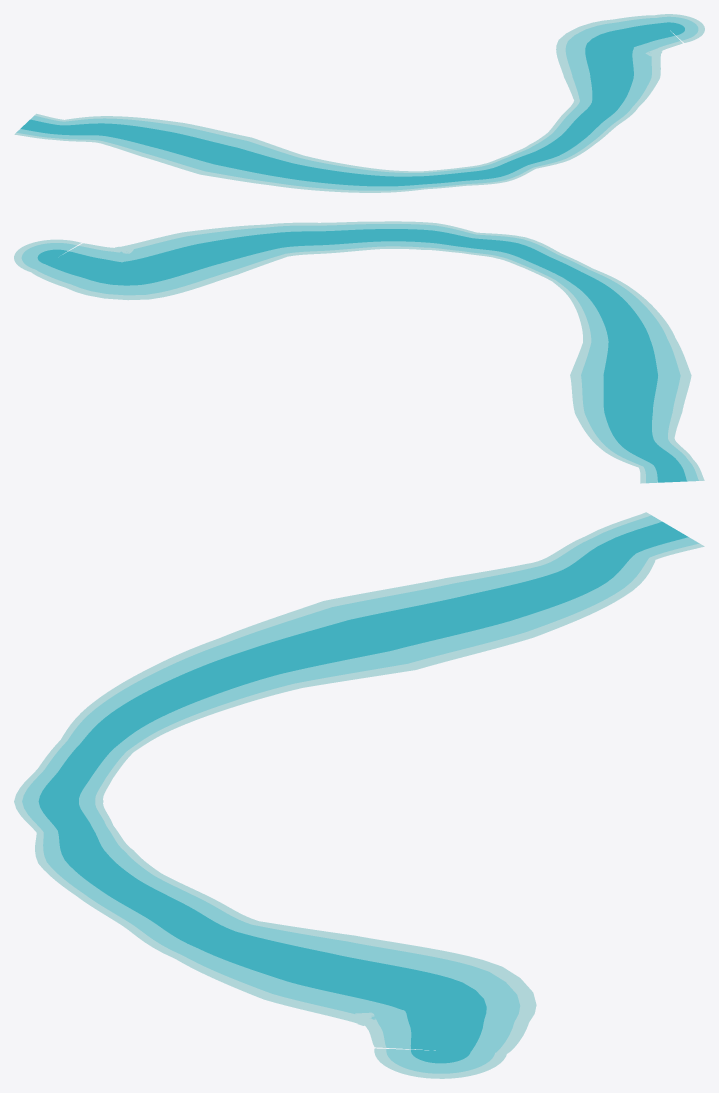
Rendered from RingWater.glb.
3 views of the same model, one above another, from view 1: azimuth 30°, elevation 25°; view 2: azimuth 150°, elevation 25°; view 3: azimuth 270°, elevation 25° (orthographic). The views are drawn at different scales.
Parts seen in each view (by area): view 1: RingWater__Water_Mid, RingWater__Water_Light, RingWater__Water_Edge; view 2: RingWater__Water_Mid, RingWater__Water_Light, RingWater__Water_Edge; view 3: RingWater__Water_Mid, RingWater__Water_Light, RingWater__Water_Edge.
Boxes of the visible parts, x1,y1,x2,y2 form: RingWater__Water_Mid: (20, 22, 684, 186); RingWater__Water_Light: (16, 16, 698, 190); RingWater__Water_Edge: (14, 14, 704, 192); RingWater__Water_Mid: (37, 229, 686, 482); RingWater__Water_Light: (21, 224, 698, 483); RingWater__Water_Edge: (14, 221, 704, 483); RingWater__Water_Mid: (38, 521, 688, 1063); RingWater__Water_Light: (22, 515, 699, 1073); RingWater__Water_Edge: (14, 512, 704, 1078).
Bounding box in the file's own units: 246 × 0 × 127.
